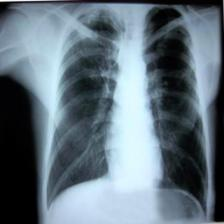tuberculosis: (38, 3, 216, 224)
